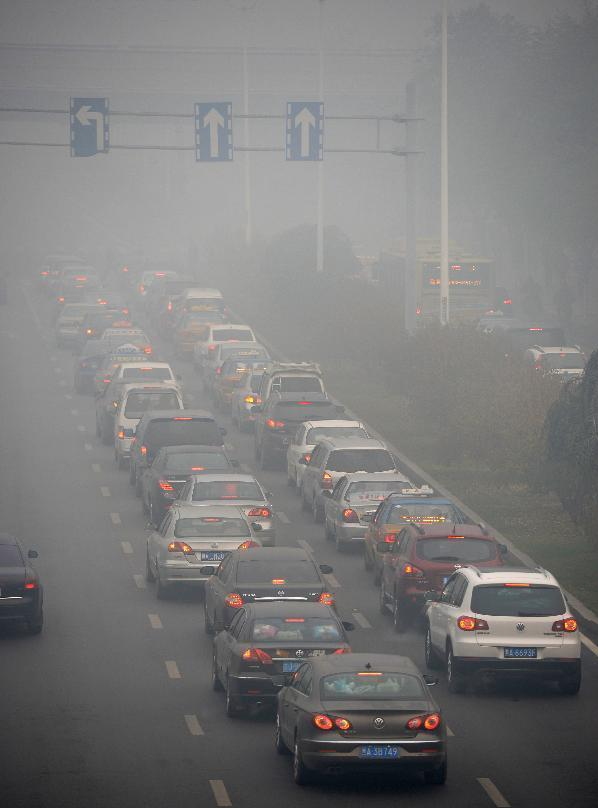bus: (372, 233, 494, 331)
car: (271, 650, 449, 786), (421, 559, 583, 696), (210, 598, 359, 717), (373, 519, 509, 634), (197, 546, 334, 650), (142, 502, 264, 601), (357, 487, 462, 590), (120, 409, 229, 499), (295, 437, 398, 524), (136, 443, 240, 528), (249, 391, 345, 470), (167, 474, 275, 542), (321, 473, 415, 551), (282, 418, 372, 496), (111, 384, 185, 470), (92, 377, 170, 446), (251, 360, 327, 429), (485, 315, 566, 376), (1, 530, 46, 634), (109, 358, 182, 418), (198, 338, 268, 400), (93, 342, 160, 399), (211, 347, 270, 410), (521, 339, 588, 393), (69, 336, 131, 394), (223, 371, 280, 434), (191, 323, 257, 375), (173, 304, 228, 359), (72, 307, 133, 355), (95, 319, 153, 364), (143, 275, 197, 323), (172, 284, 226, 328), (52, 301, 101, 349), (136, 267, 183, 309), (56, 273, 105, 312), (79, 291, 130, 323)
